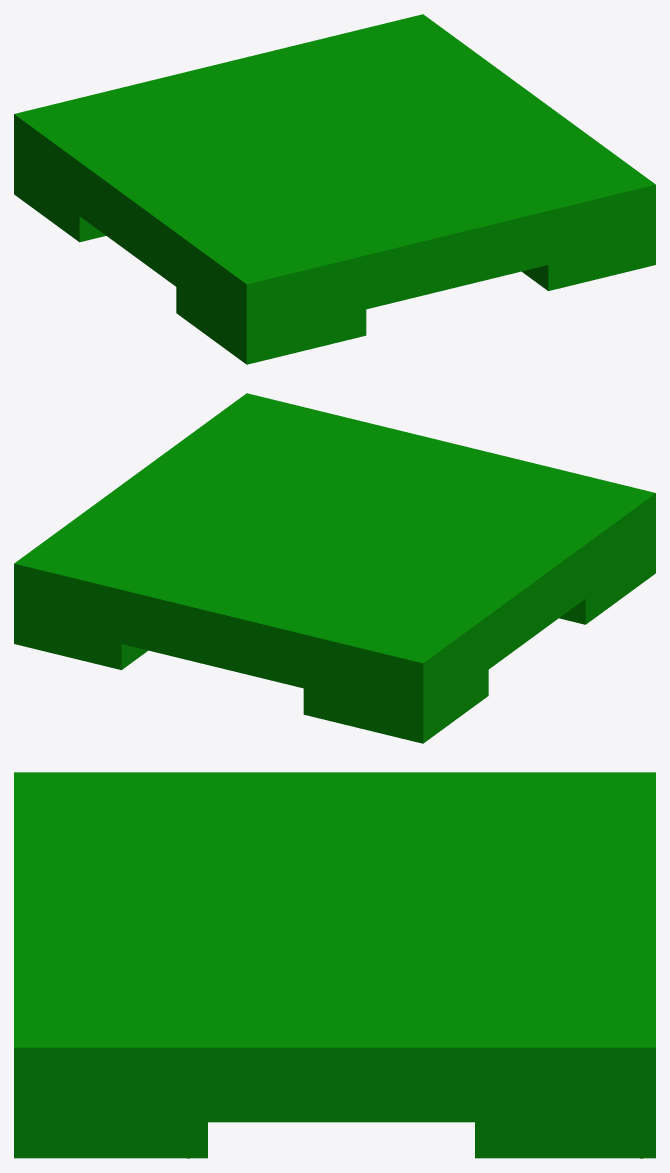
File: ModRigFork.fbx
3 renders of one model, top to bottom at view 1: azimuth 30°, elevation 25°; view 2: azimuth 150°, elevation 25°; view 3: azimuth 270°, elevation 25°, orthographic. The views are drawn at different scales.
Parts seen in each view (by area): view 1: ModRigFork; view 2: ModRigFork; view 3: ModRigFork.
Part boxes in pixels (x1,y1,x2,y2): ModRigFork: [14, 14, 655, 364]; ModRigFork: [14, 393, 655, 743]; ModRigFork: [14, 772, 655, 1158].
Bounding box in the file's own units: 40.53 × 7.85 × 39.94.
